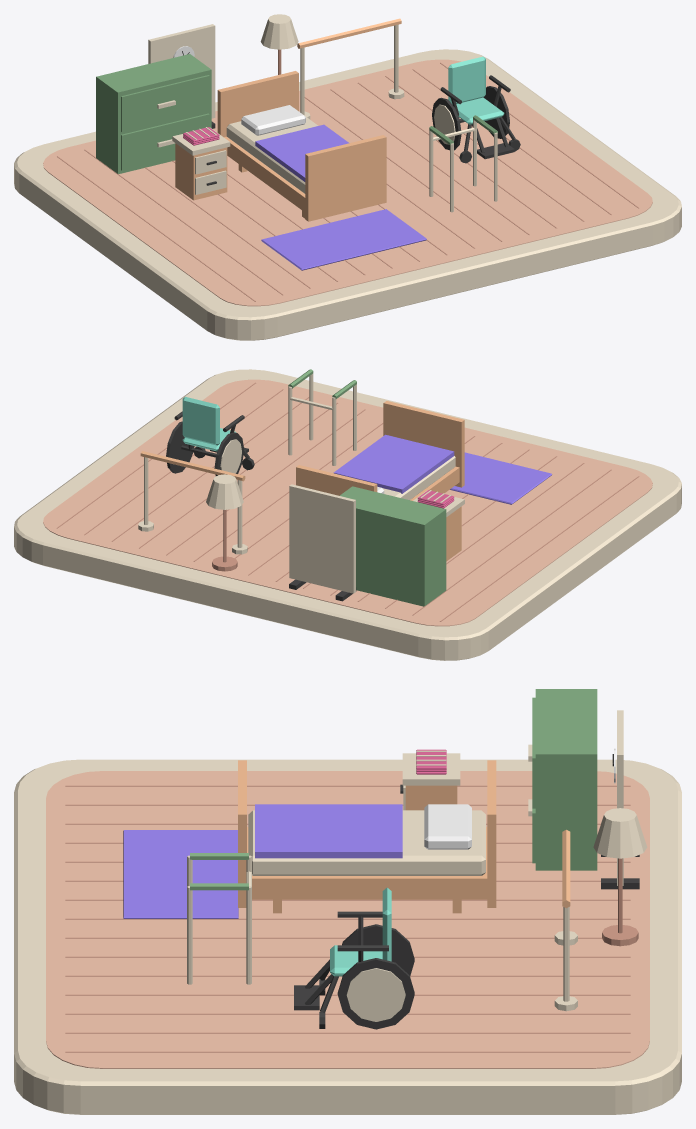
The model's file is room.fbx.
3 views of the same model, one above another, from view 1: azimuth 30°, elevation 25°; view 2: azimuth 150°, elevation 25°; view 3: azimuth 270°, elevation 25° (orthographic). The views are drawn at different scales.
Parts seen in each view (by area): view 1: COM-02 Floor Surface, COM-01 Rounded Base Direct, Cabinet, End board, Rug, End board.001, Blanket, Panel, Mattress, Frame, Backrest, Body (+10 smaller); view 2: COM-02 Floor Surface, COM-01 Rounded Base Direct, Cabinet, Panel, Blanket, End board, Rug, Backrest, End board.001, Lamp shade, Rear wheel.001, Mattress (+4 smaller); view 3: COM-02 Floor Surface, COM-01 Rounded Base Direct, Cabinet, Rug, Blanket, Mattress, Frame, Push rim.001, Pillow, Lamp shade, Rear wheel.001, End board.001 (+20 smaller).
Part boxes in pixels (x1=…): COM-02 Floor Surface: x1=43, y1=59, x2=652, y2=306; COM-01 Rounded Base Direct: x1=14, y1=49, x2=681, y2=340; Cabinet: x1=96, y1=54, x2=211, y2=173; End board: x1=305, y1=135, x2=386, y2=221; Rug: x1=261, y1=209, x2=426, y2=270; End board.001: x1=217, y1=71, x2=298, y2=137; Blanket: x1=255, y1=124, x2=349, y2=181; Panel: x1=148, y1=24, x2=215, y2=118; Mattress: x1=226, y1=109, x2=318, y2=193; Frame: x1=224, y1=136, x2=305, y2=212; Backrest: x1=448, y1=56, x2=485, y2=104; Body: x1=175, y1=143, x2=227, y2=200; COM-02 Floor Surface: x1=43, y1=379, x2=652, y2=626; COM-01 Rounded Base Direct: x1=14, y1=369, x2=681, y2=660; Cabinet: x1=339, y1=486, x2=446, y2=606; Panel: x1=289, y1=484, x2=355, y2=593; Blanket: x1=333, y1=434, x2=454, y2=493; End board: x1=383, y1=401, x2=464, y2=487; Rug: x1=450, y1=452, x2=551, y2=504; Backrest: x1=182, y1=396, x2=219, y2=445; End board.001: x1=296, y1=465, x2=377, y2=495; Lamp shade: x1=206, y1=474, x2=243, y2=509; Rear wheel.001: x1=166, y1=421, x2=194, y2=473; Mattress: x1=382, y1=456, x2=455, y2=500; COM-02 Floor Surface: x1=46, y1=771, x2=649, y2=1068; COM-01 Rounded Base Direct: x1=14, y1=759, x2=681, y2=1114; Cabinet: x1=528, y1=689, x2=597, y2=870; Rug: x1=123, y1=830, x2=238, y2=918; Blanket: x1=255, y1=804, x2=402, y2=858; Mattress: x1=248, y1=810, x2=485, y2=875; Frame: x1=247, y1=827, x2=487, y2=899; Push rim.001: x1=346, y1=968, x2=405, y2=1021; Pillow: x1=424, y1=804, x2=471, y2=849; Lamp shade: x1=593, y1=808, x2=647, y2=858; Rear wheel.001: x1=337, y1=958, x2=414, y2=1029; End board.001: x1=487, y1=760, x2=496, y2=907.
Bounding box in the file's own units: 600 × 148 × 520.
